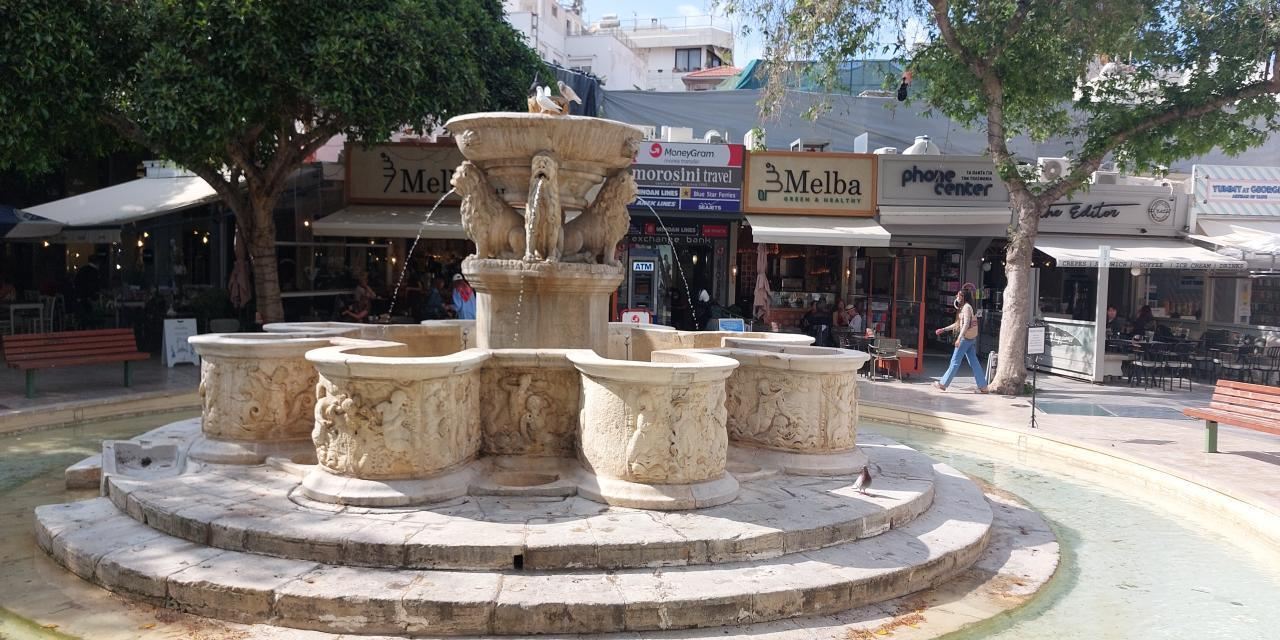Liontaria: (187, 89, 883, 511)
